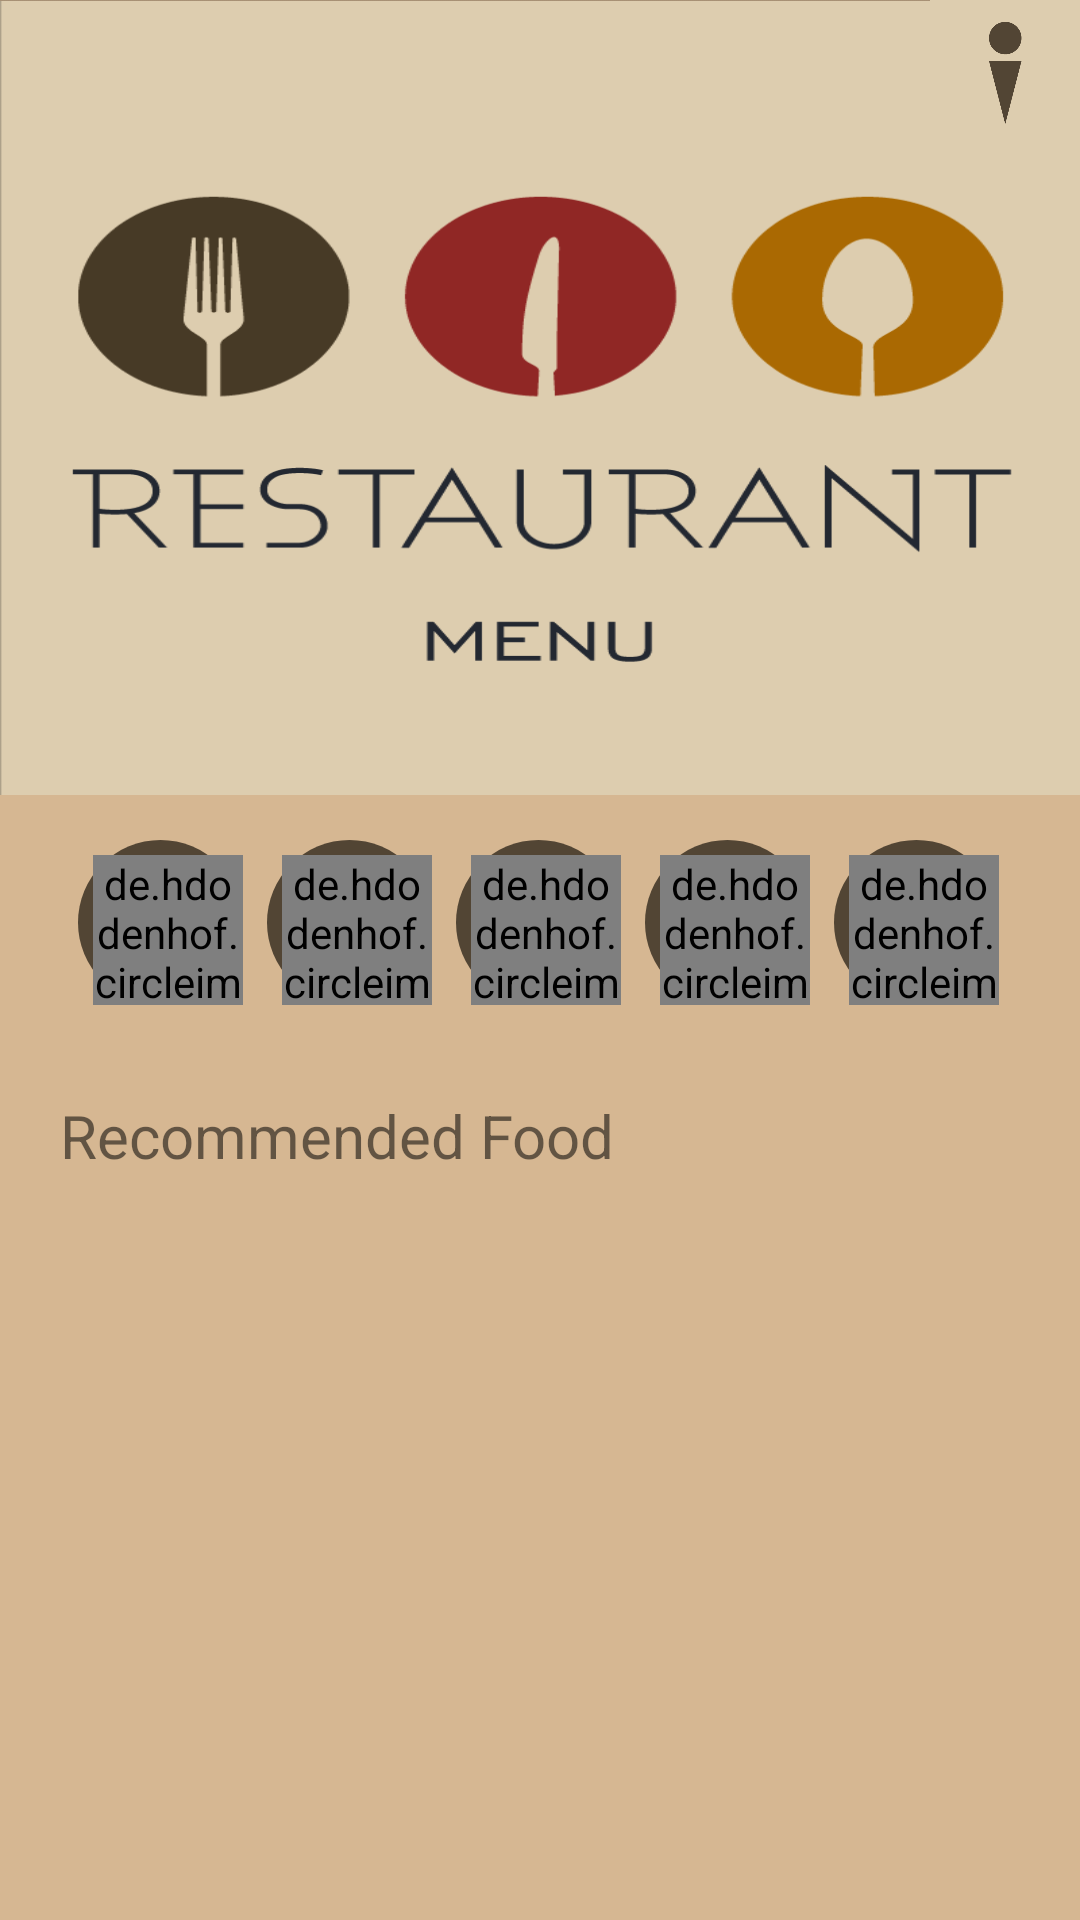

Icon click points for this 1080*1920 phone screenshot, format [x,y]:
aboutme: [1005,73]
